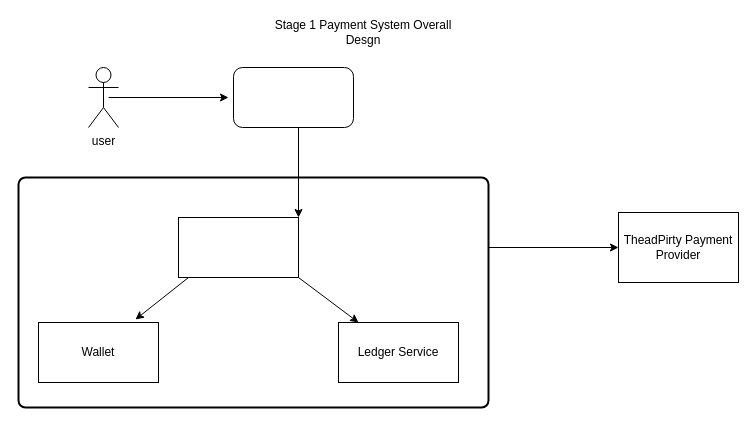
Image size: 756x433. Some labels were removed from this diagram. Here are the shapes that lost their labels. From the top down, the centre of each, then its label:
the point at 293,97: checkout
the point at 238,247: Payment Service
